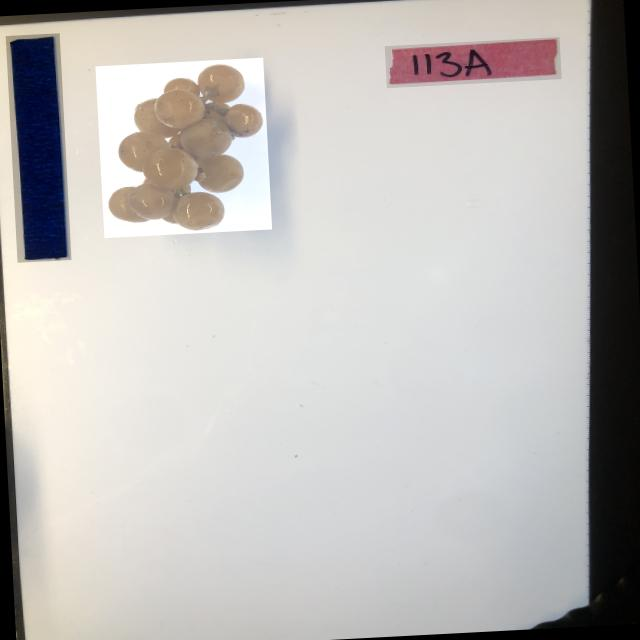grape_cluster: (95, 58, 272, 238)
index: (384, 37, 562, 88)
measure_label: (6, 33, 72, 263)
